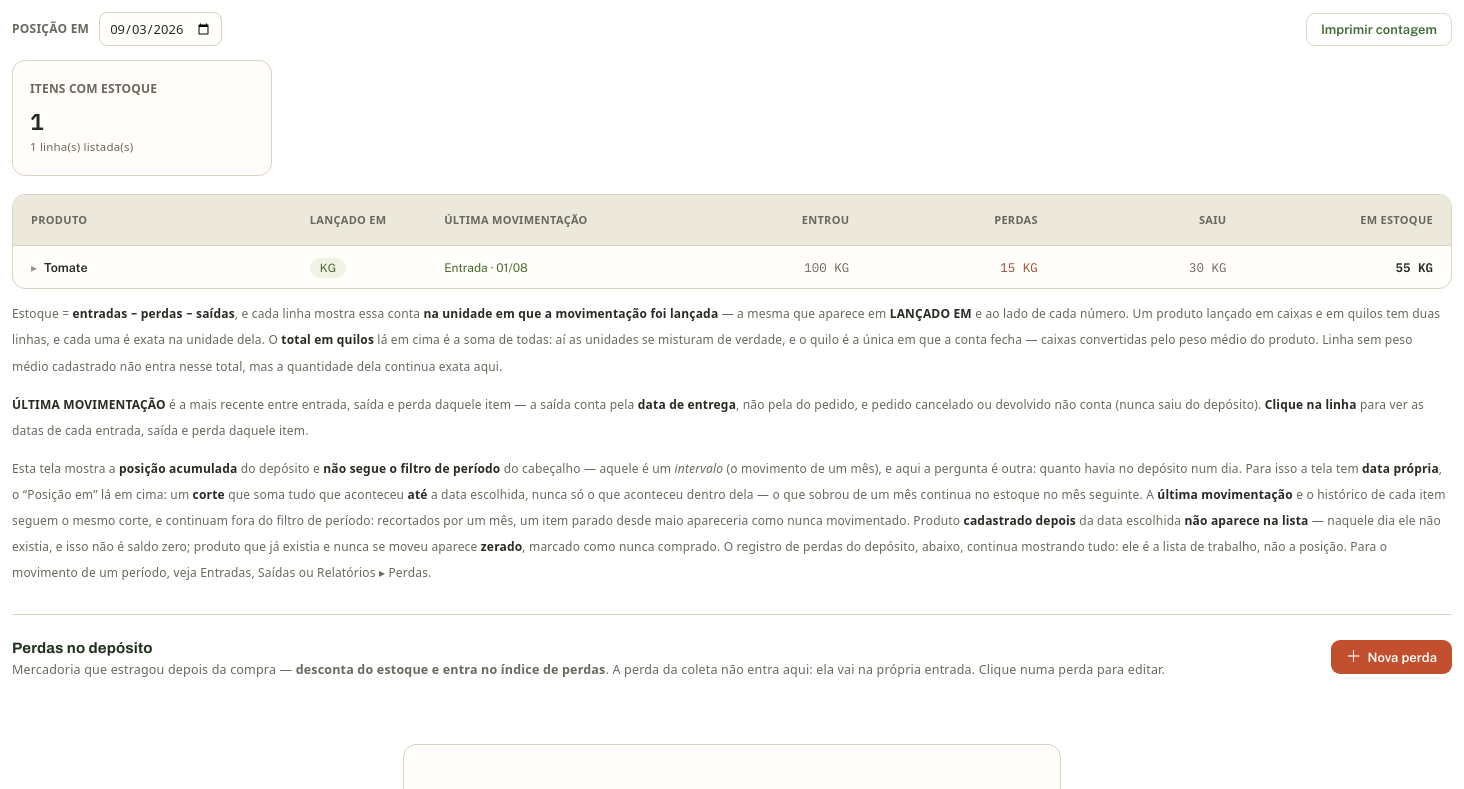
EstoqueLista — historico por item (custo: uma busca para a tela inteira) › diz "N de M" quando a API truncou nas mais recentes, em vez de truncar calada
Click the button "▸Tomate KG Entrada · 01/08 100 KG 15 KG 30 KG 55 KG" at (66, 267), box [13,246,1451,288]
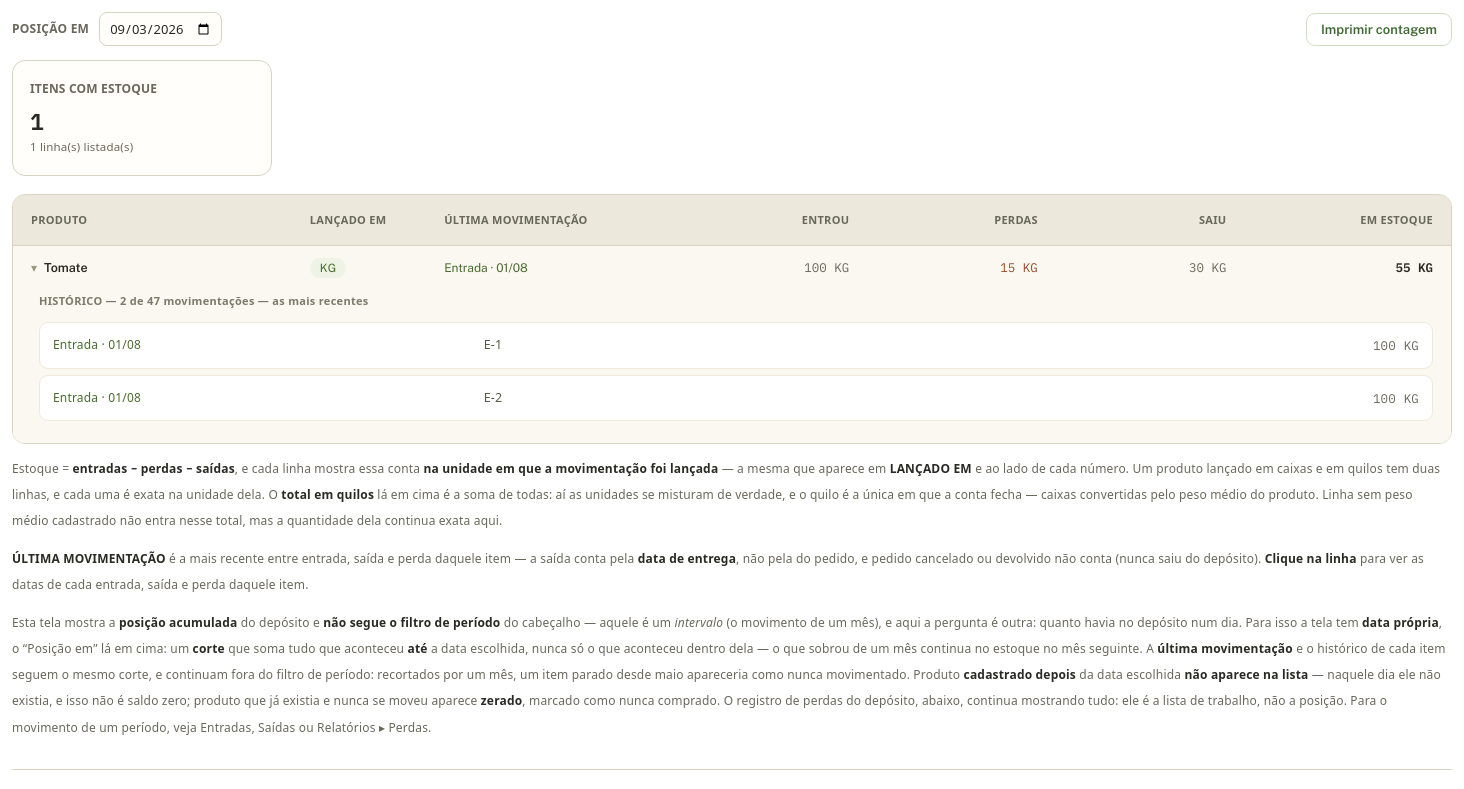
Expected: the text "HISTÓRICO — 2 de 47 movimentações — as mais recentes" is shown, [39,293,369,308]
